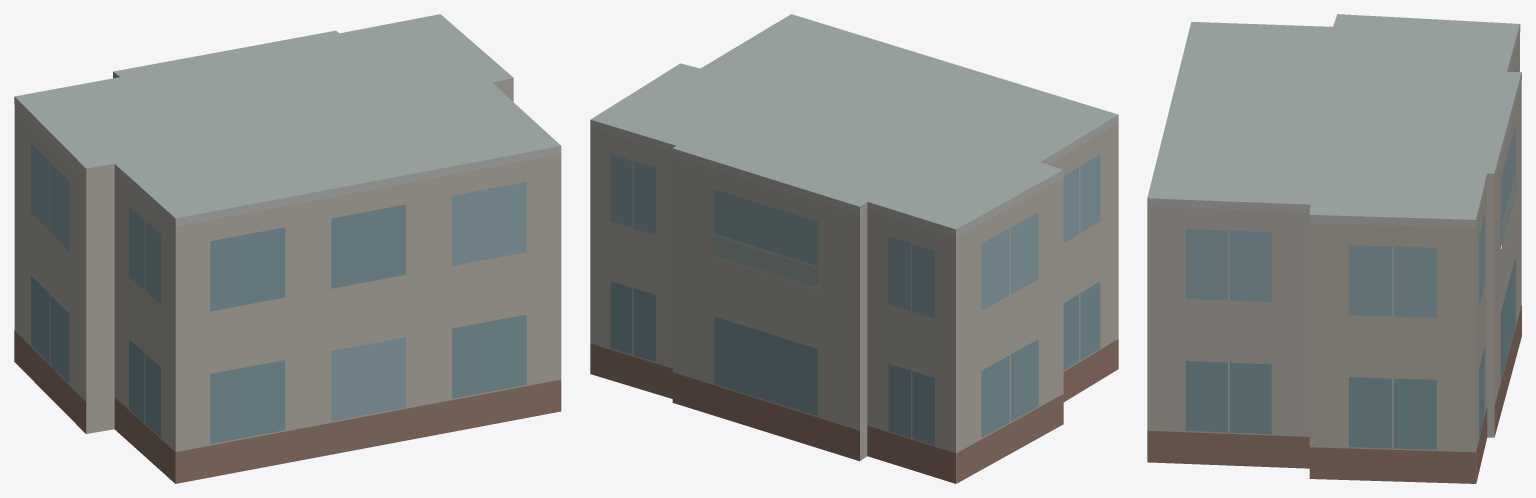
Rendered from survey-upis-32751256.glb.
3 views of the same model, side by side, from view 1: azimuth 30°, elevation 25°; view 2: azimuth 150°, elevation 25°; view 3: azimuth 270°, elevation 25° (orthographic). The views are drawn at different scales.
Parts seen in each view (by area): view 1: survey-upis-32751256.tmp; view 2: survey-upis-32751256.tmp; view 3: survey-upis-32751256.tmp.
Part boxes in pixels (<box>): survey-upis-32751256.tmp: <box>14,14,561,483</box>; survey-upis-32751256.tmp: <box>590,14,1118,483</box>; survey-upis-32751256.tmp: <box>1147,14,1521,483</box>.
Size of the model in its own units: 13.22 by 7.9 by 10.17.
